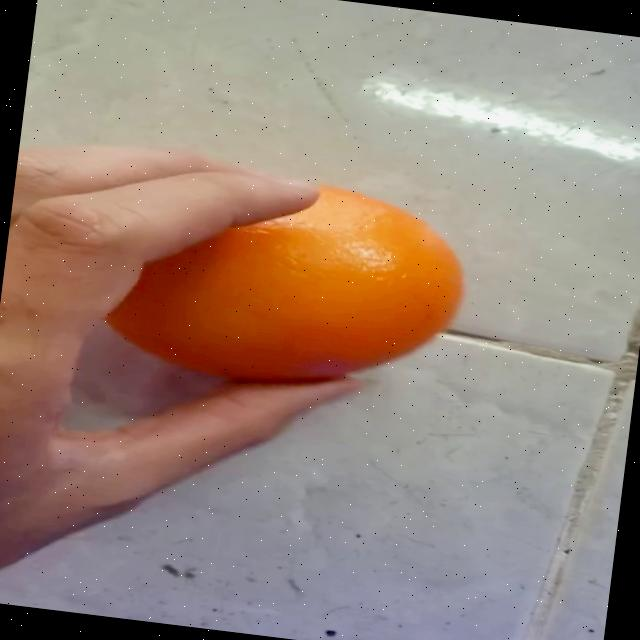orange: (16, 93, 522, 447)
